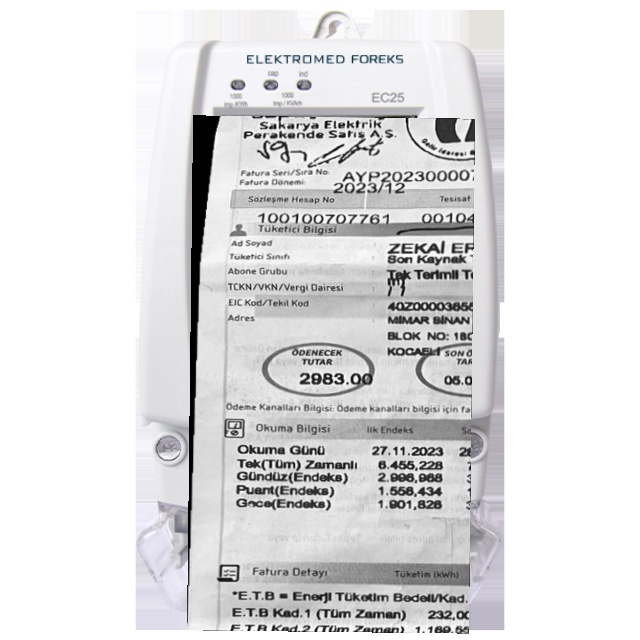electricity-bill: (186, 115, 474, 633)
